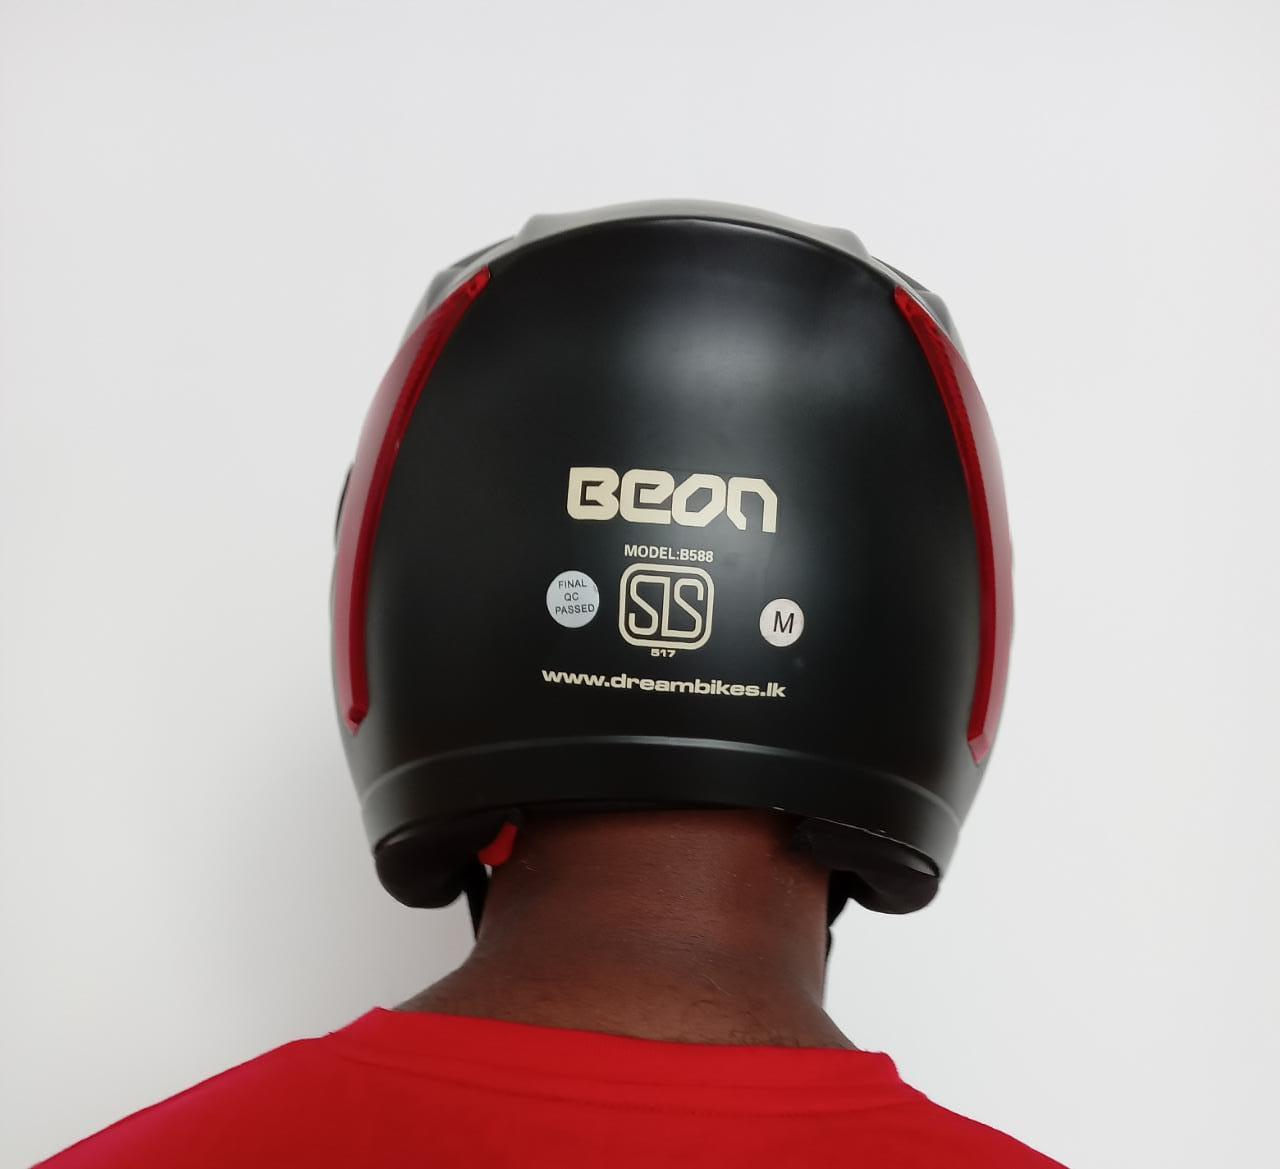helmet: (322, 190, 1019, 931)
